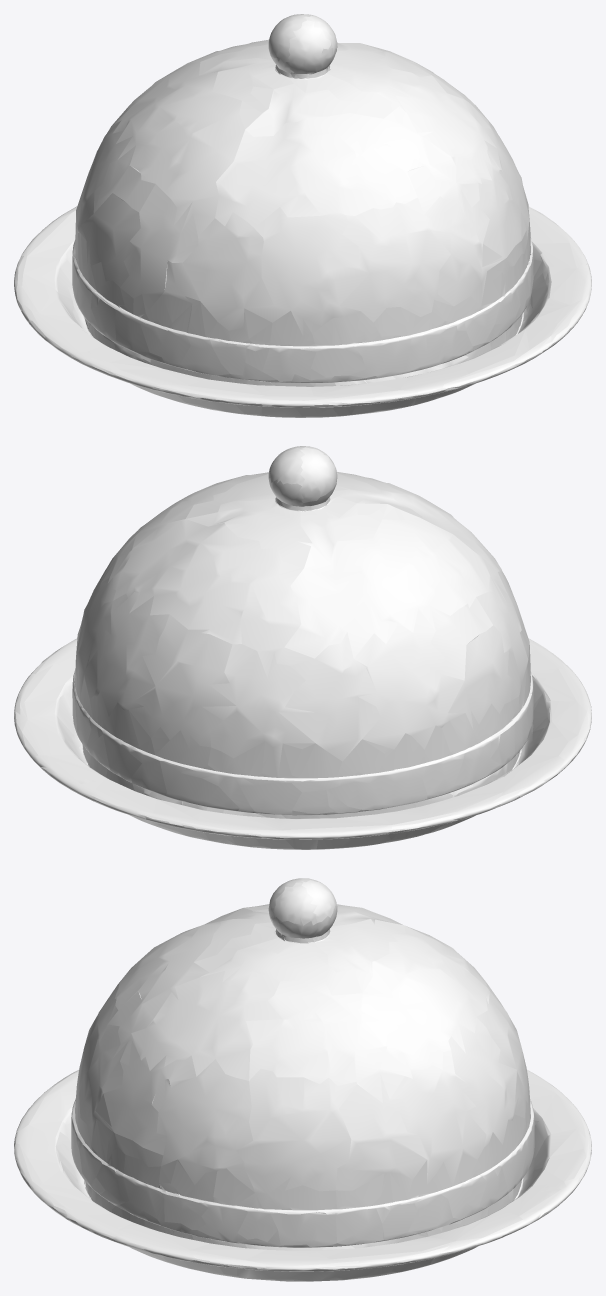
Rendered from travessa.glb.
3 renders of one model, top to bottom at view 1: azimuth 30°, elevation 25°; view 2: azimuth 150°, elevation 25°; view 3: azimuth 270°, elevation 25°, orthographic.
Parts seen in each view (by area): view 1: Prop; view 2: Prop; view 3: Prop.
Part boxes in pixels (x1=…): Prop: x1=14, y1=14, x2=591, y2=417; Prop: x1=14, y1=446, x2=591, y2=849; Prop: x1=14, y1=878, x2=591, y2=1281.
Bounding box in the file's own units: 1 × 0.5858 × 0.9998.
1 material, 1 textured.
